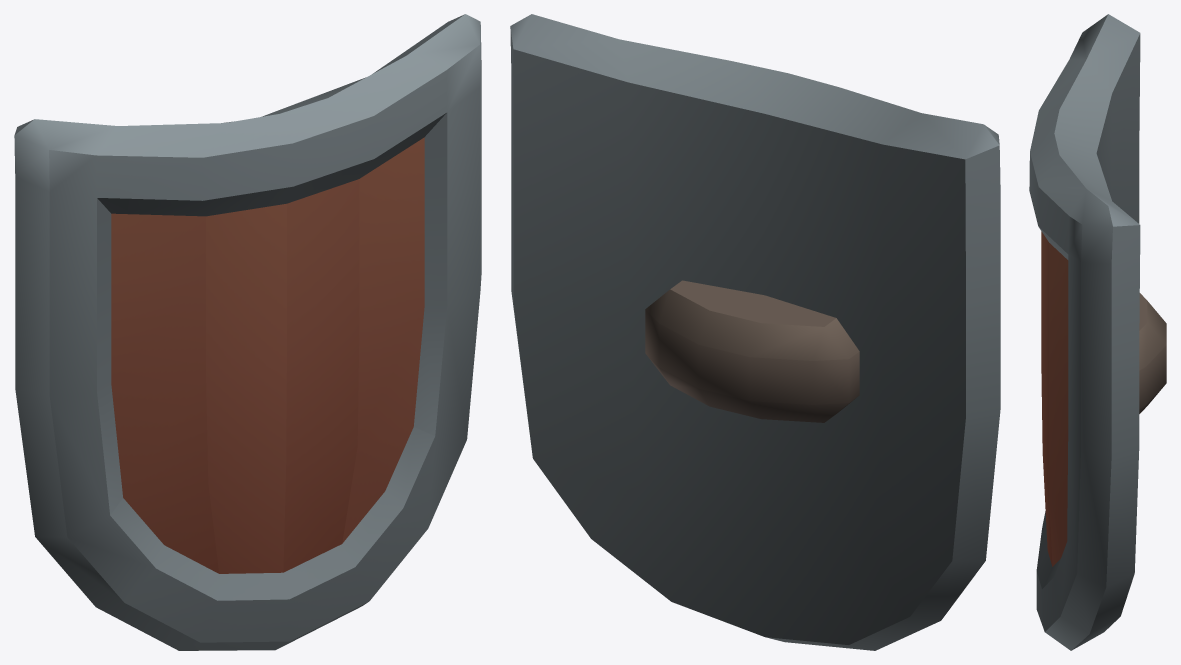
File: gear-shield-badge.glb
3 renders of one model, left to right at view 1: azimuth 30°, elevation 25°; view 2: azimuth 150°, elevation 25°; view 3: azimuth 270°, elevation 25°, orthographic. The views are drawn at different scales.
Parts seen in each view (by area): view 1: shield_badge; view 2: shield_badge; view 3: shield_badge.
Part boxes in pixels (x1,y1,x2,y2): shield_badge: [14, 14, 481, 650]; shield_badge: [510, 14, 1000, 650]; shield_badge: [1029, 14, 1166, 650].
Size of the model in its own units: 0.8826 by 1.02 by 0.2459.
